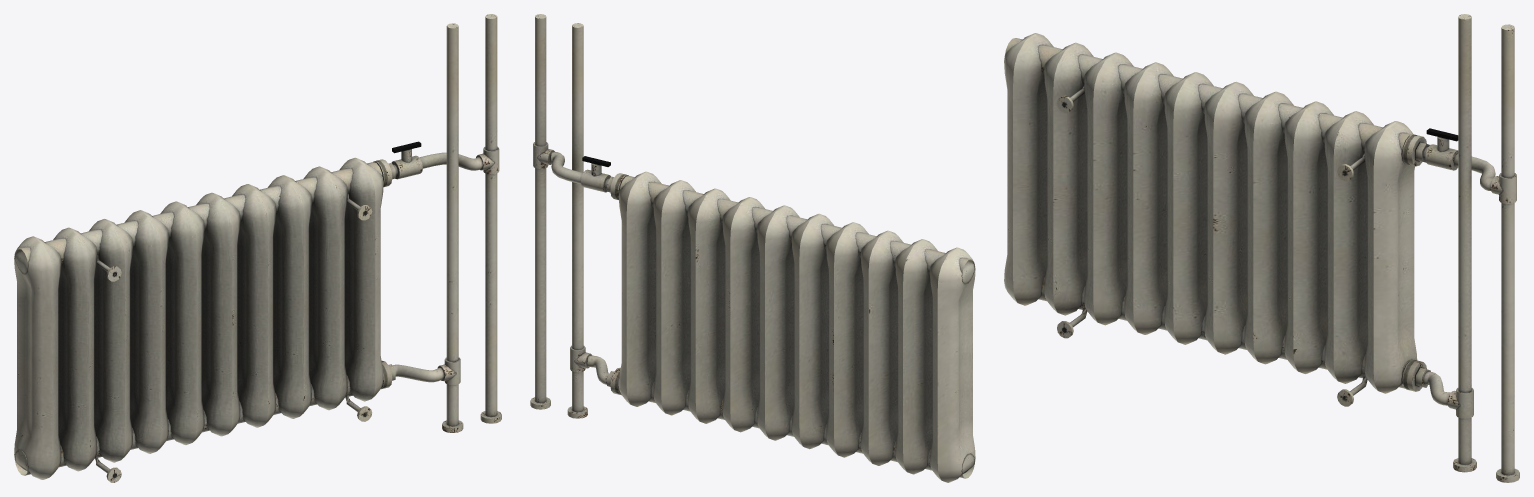
Rendered from rad_10_two_pipe_web.glb.
3 views of the same model, side by side, from view 1: azimuth 30°, elevation 25°; view 2: azimuth 150°, elevation 25°; view 3: azimuth 330°, elevation 25° (orthographic). The views are drawn at different scales.
Parts seen in each view (by area): view 1: Rad10TwoPipe_Body; view 2: Rad10TwoPipe_Body; view 3: Rad10TwoPipe_Body.
Part boxes in pixels (left/top/right/bottom): Rad10TwoPipe_Body: left=14, top=14, right=501, bottom=482; Rad10TwoPipe_Body: left=530, top=14, right=975, bottom=482; Rad10TwoPipe_Body: left=1004, top=14, right=1519, bottom=482.
Size of the model in its own units: 1.21 by 1 by 0.175.
Materials: 1 (1 with a texture image).
